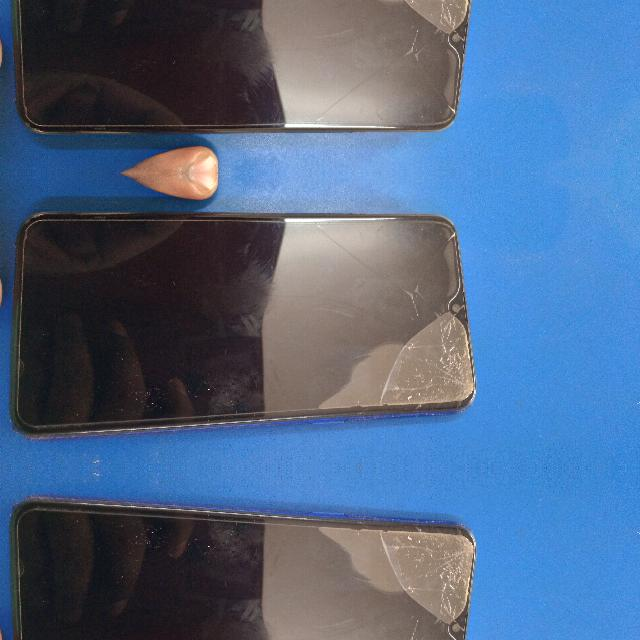phone_screen: (12, 214, 475, 436), (12, 499, 475, 639)
